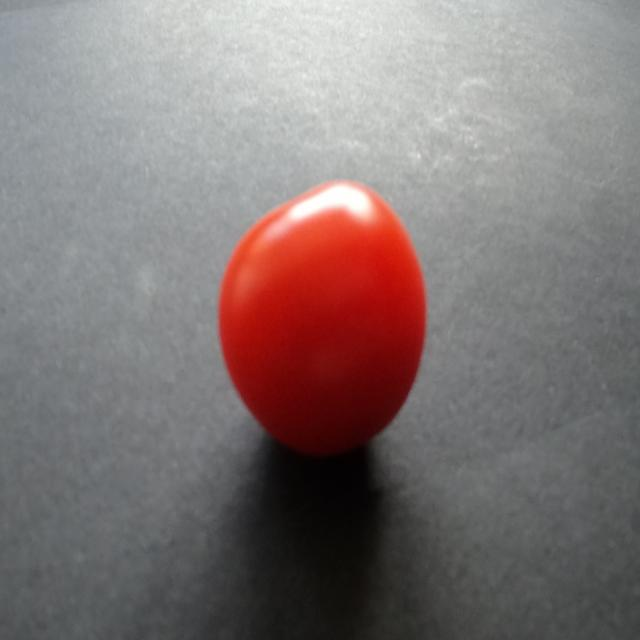Tomato: (190, 148, 472, 499)
